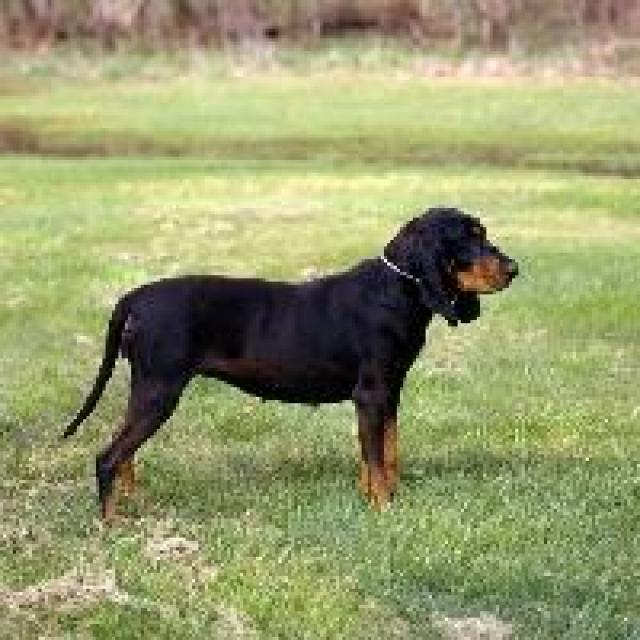good: (64, 204, 523, 499)
